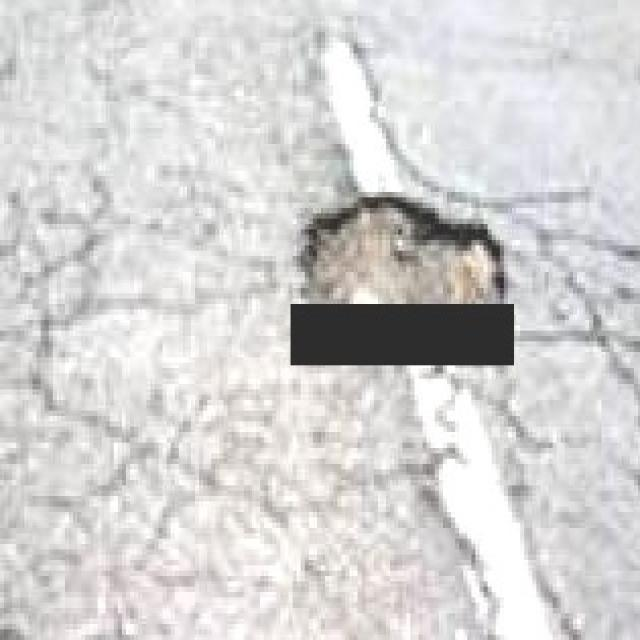road-pothole: (302, 189, 509, 305)
